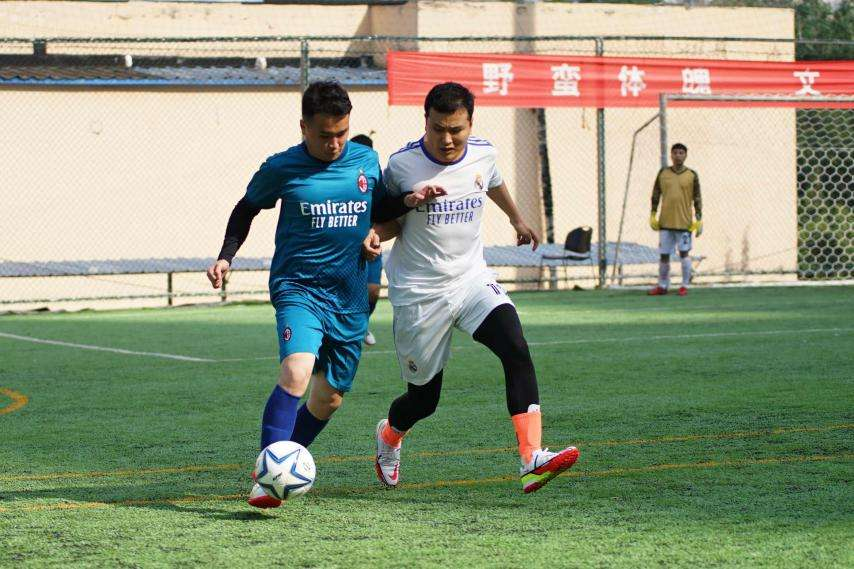football: (254, 439, 316, 500)
